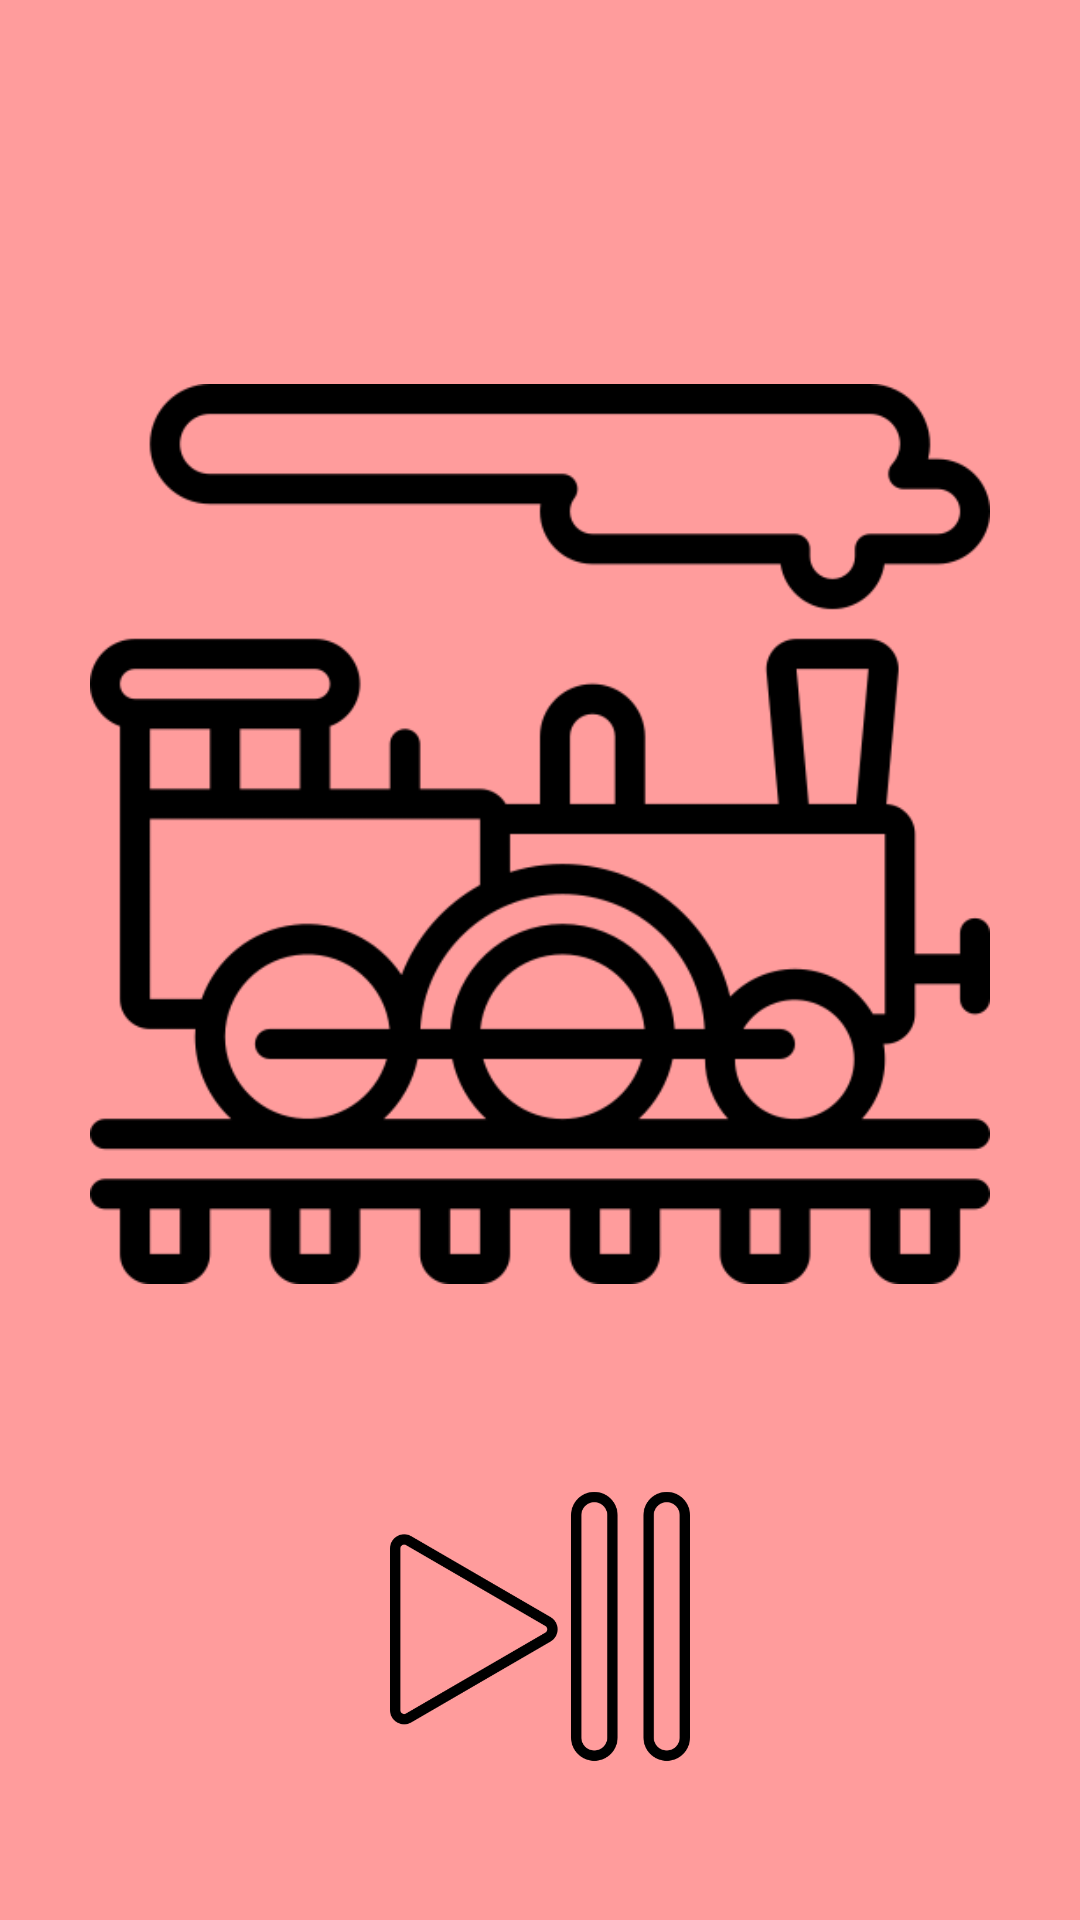

Locate icon controls on the screen. Image size 1080 × 1920, boxes as (x1=x1, y1=y1, x2=x2, y2=y2).
play: (x1=390, y1=1492, x2=690, y2=1761)
